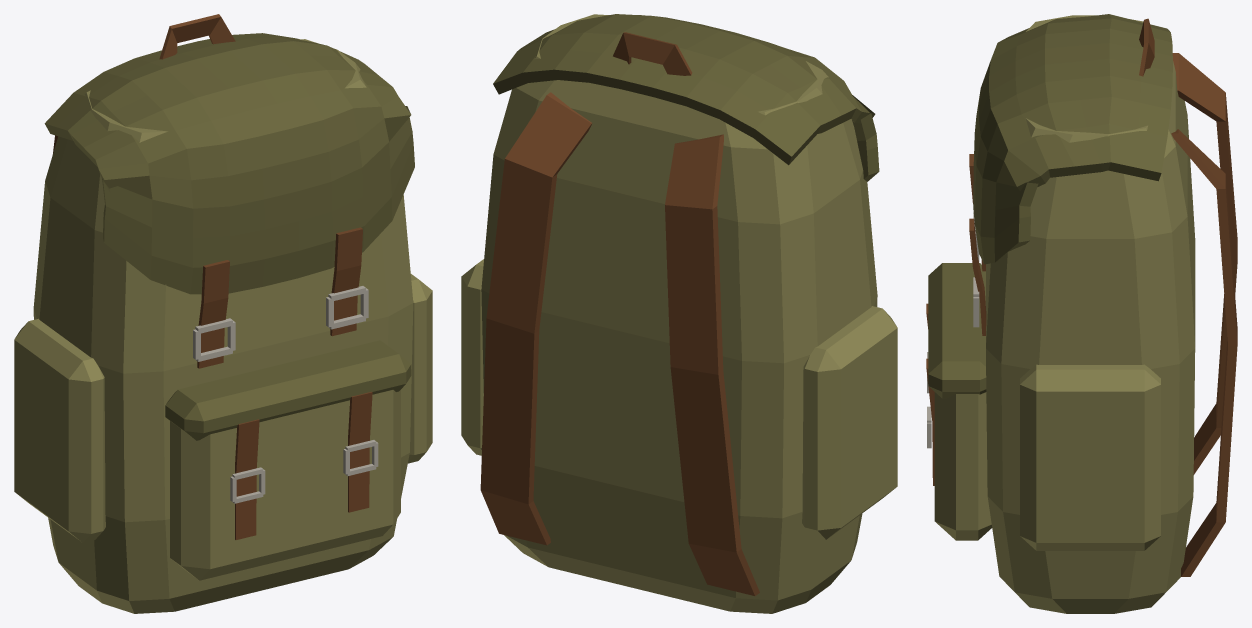
The model's file is item-rucksack.glb.
3 renders of one model, left to right at view 1: azimuth 30°, elevation 25°; view 2: azimuth 150°, elevation 25°; view 3: azimuth 270°, elevation 25°, orthographic. The views are drawn at different scales.
Visible parts, largest first — view 1: rucksack; view 2: rucksack; view 3: rucksack.
Boxes of the visible parts, x1=… form: rucksack: x1=14, y1=14, x2=432, y2=613; rucksack: x1=461, y1=14, x2=897, y2=613; rucksack: x1=926, y1=14, x2=1237, y2=613.
Size of the model in its own units: 0.356 by 0.4867 by 0.2645.
